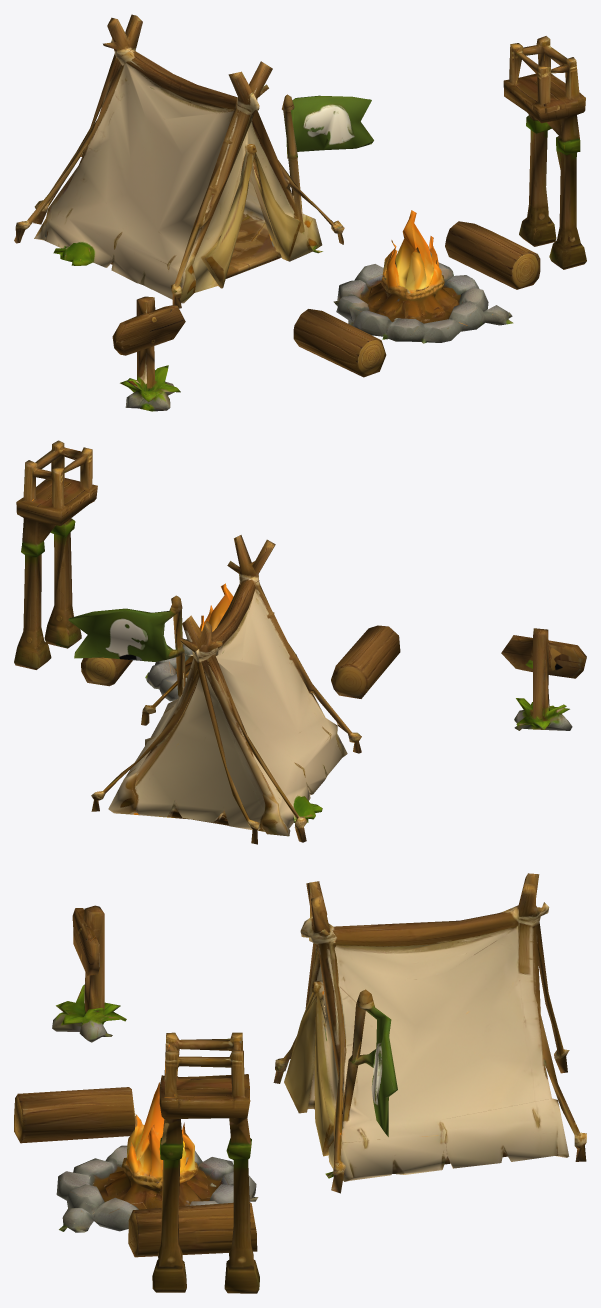
File: Campsite.glb
3 views of the same model, one above another, from view 1: azimuth 30°, elevation 25°; view 2: azimuth 150°, elevation 25°; view 3: azimuth 270°, elevation 25° (orthographic). The views are drawn at different scales.
Visible parts, largest first — view 1: Mesh1.0; view 2: Mesh1.0; view 3: Mesh1.0.
Part boxes in pixels (<box>): Mesh1.0: <box>14,14,586,411</box>; Mesh1.0: <box>14,440,586,844</box>; Mesh1.0: <box>14,873,586,1293</box>.
Bounding box in the file's own units: 1.91 × 0.7782 × 1.58.
Materials: 1 (1 with a texture image).
